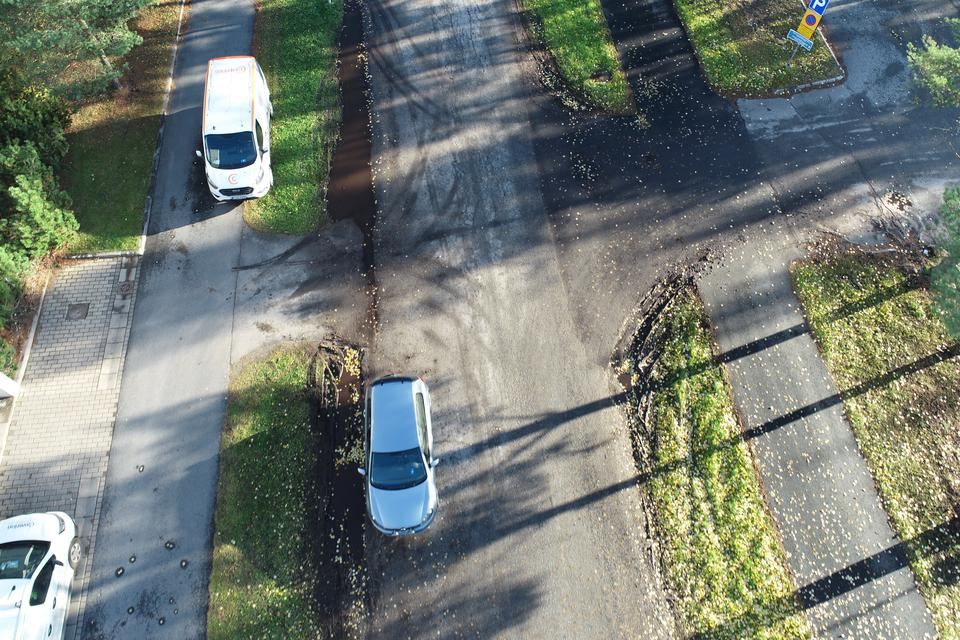intersection: (290, 60, 960, 434)
